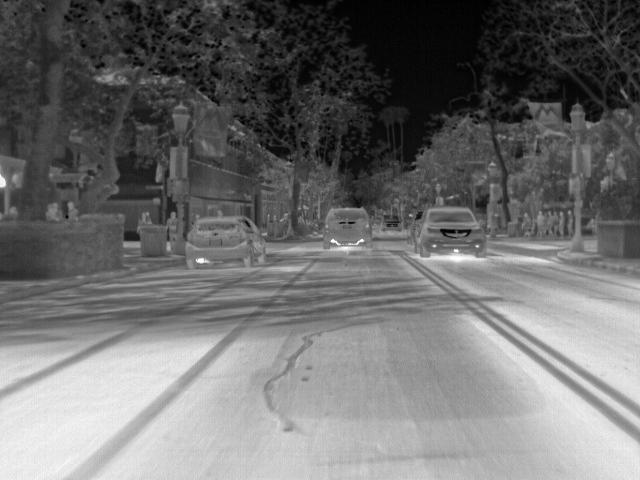car: (184, 215, 270, 269), (412, 203, 487, 256), (321, 206, 376, 250), (379, 211, 406, 233)
person: (533, 207, 547, 237), (564, 206, 577, 237), (135, 211, 151, 236), (165, 213, 179, 241), (555, 209, 567, 238), (63, 200, 82, 218)
